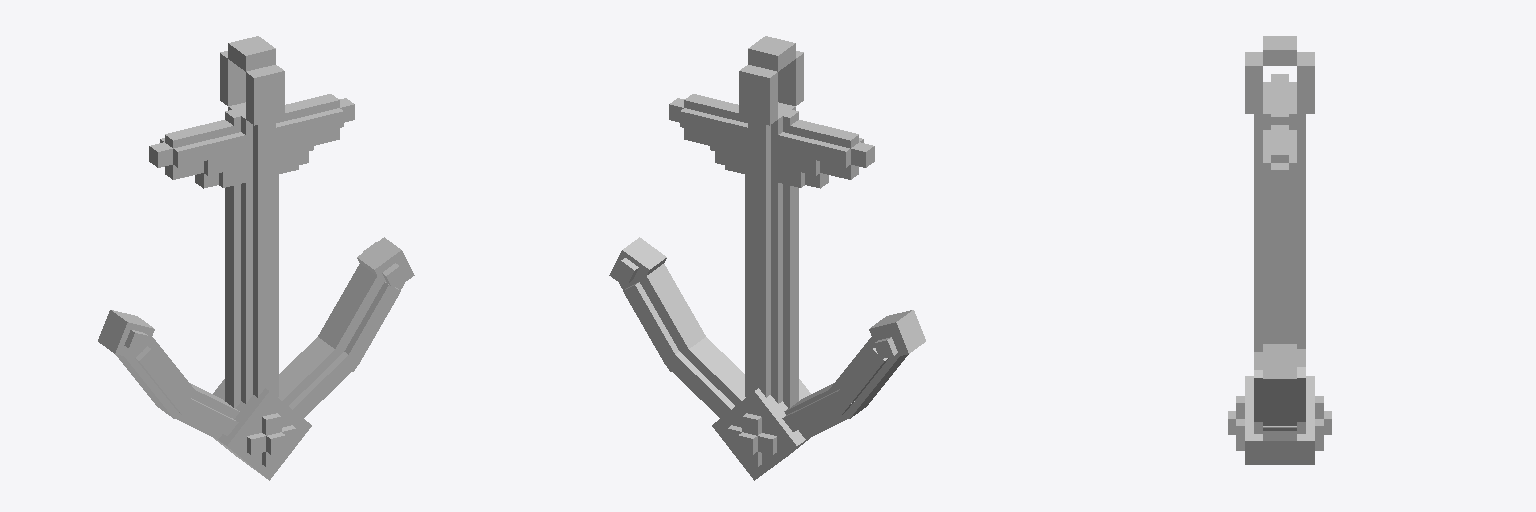
File: 651_anchor.obj
3 renders of one model, left to right at view 1: azimuth 30°, elevation 25°; view 2: azimuth 150°, elevation 25°; view 3: azimuth 270°, elevation 25°, orthographic.
Parts seen in each view (by area): view 1: Shape22, Shape1, Shape24, Shape2, Shape15, Shape4, Shape12, Shape21, Shape3, Shape6, Shape35, Shape34 (+13 smaller); view 2: Shape25, Shape1, Shape24, Shape2, Shape20, Shape4, Shape13, Shape21, Shape3, Shape6, Shape40, Shape41 (+13 smaller); view 3: Shape1, Shape2, Shape23, Shape22, Shape25, Shape4, Shape7, Shape12, Shape13, Shape21, Shape14, Shape15 (+1 smaller).
Part boxes in pixels (left/top/right/bottom): Shape22: left=253, top=121, right=272, bottom=397; Shape1: left=228, top=102, right=275, bottom=403; Shape24: left=225, top=108, right=241, bottom=408; Shape2: left=213, top=379, right=311, bottom=480; Shape15: left=173, top=108, right=343, bottom=167; Shape4: left=318, top=264, right=404, bottom=371; Shape12: left=246, top=65, right=284, bottom=125; Shape21: left=165, top=94, right=339, bottom=148; Shape3: left=278, top=337, right=356, bottom=417; Shape6: left=115, top=330, right=198, bottom=418; Shape35: left=344, top=282, right=400, bottom=363; Shape34: left=289, top=352, right=358, bottom=417; Shape25: left=751, top=121, right=770, bottom=397; Shape1: left=748, top=102, right=795, bottom=403; Shape24: left=779, top=108, right=798, bottom=408; Shape2: left=712, top=379, right=810, bottom=480; Shape20: left=680, top=108, right=850, bottom=167; Shape4: left=619, top=264, right=705, bottom=371; Shape13: left=739, top=65, right=777, bottom=125; Shape21: left=684, top=94, right=858, bottom=148; Shape3: left=672, top=337, right=745, bottom=417; Shape6: left=825, top=331, right=908, bottom=418; Shape40: left=623, top=282, right=679, bottom=363; Shape41: left=665, top=352, right=734, bottom=417; Shape1: left=1263, top=99, right=1296, bottom=343; Shape2: left=1245, top=376, right=1314, bottom=464; Shape23: left=1271, top=114, right=1288, bottom=343; Shape22: left=1254, top=114, right=1262, bottom=351; Shape25: left=1297, top=114, right=1305, bottom=348; Shape4: left=1263, top=379, right=1296, bottom=430; Shape7: left=1263, top=344, right=1296, bottom=378; Shape12: left=1245, top=52, right=1262, bottom=113; Shape13: left=1297, top=52, right=1314, bottom=113; Shape21: left=1271, top=74, right=1288, bottom=162; Shape14: left=1263, top=36, right=1296, bottom=65; Shape15: left=1263, top=82, right=1270, bottom=178.
Bounding box in the file's own units: 3.71 × 5 × 1.12.